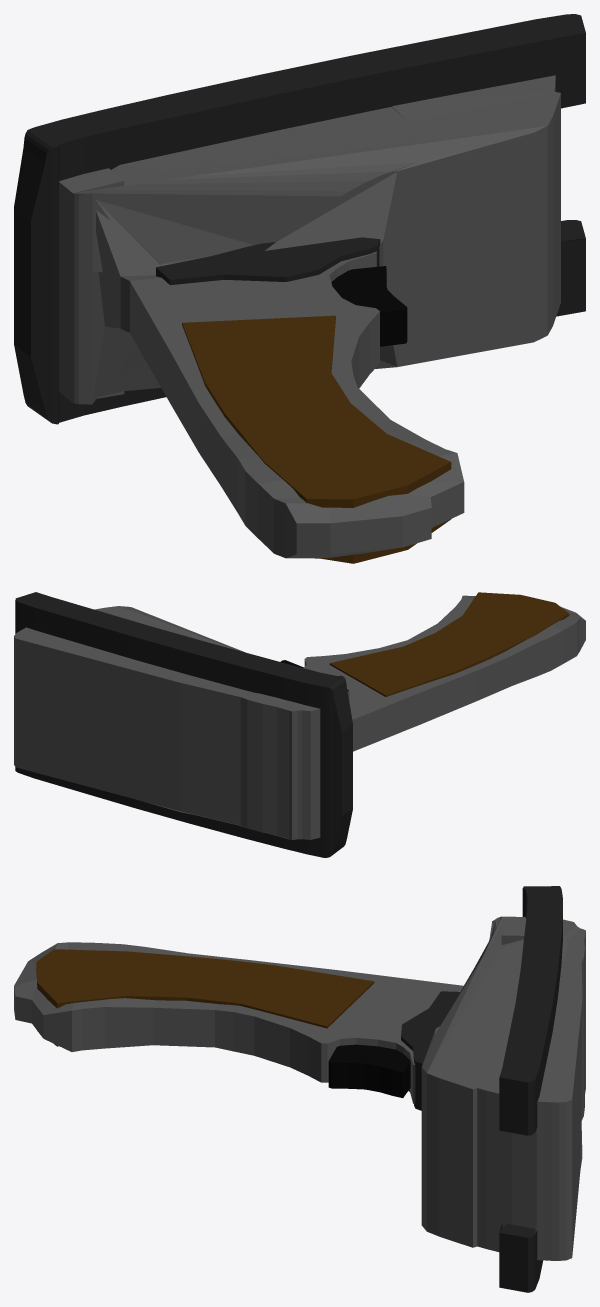
File: gravitygun.fbx
3 views of the same model, one above another, from view 1: azimuth 30°, elevation 25°; view 2: azimuth 150°, elevation 25°; view 3: azimuth 270°, elevation 25° (orthographic). The views are drawn at different scales.
Parts seen in each view (by area): view 1: Cube, Cube.002, Cube.004, Cube.003, Cube.001; view 2: Cube, Cube.002, Cube.004; view 3: Cube, Cube.004, Cube.002, Cube.001, Cube.003.
Part boxes in pixels (x1,y1,x2,y2): Cube: [59, 75, 560, 558]; Cube.002: [14, 14, 585, 424]; Cube.004: [182, 315, 451, 563]; Cube.003: [156, 237, 380, 285]; Cube.001: [331, 266, 407, 346]; Cube: [14, 595, 585, 839]; Cube.002: [15, 592, 352, 857]; Cube.004: [329, 592, 569, 696]; Cube: [14, 916, 585, 1260]; Cube.004: [36, 949, 374, 1046]; Cube.002: [499, 886, 562, 1292]; Cube.001: [328, 1044, 410, 1097]; Cube.003: [401, 991, 459, 1110].
Size of the model in its own units: 438 by 191 by 470.
